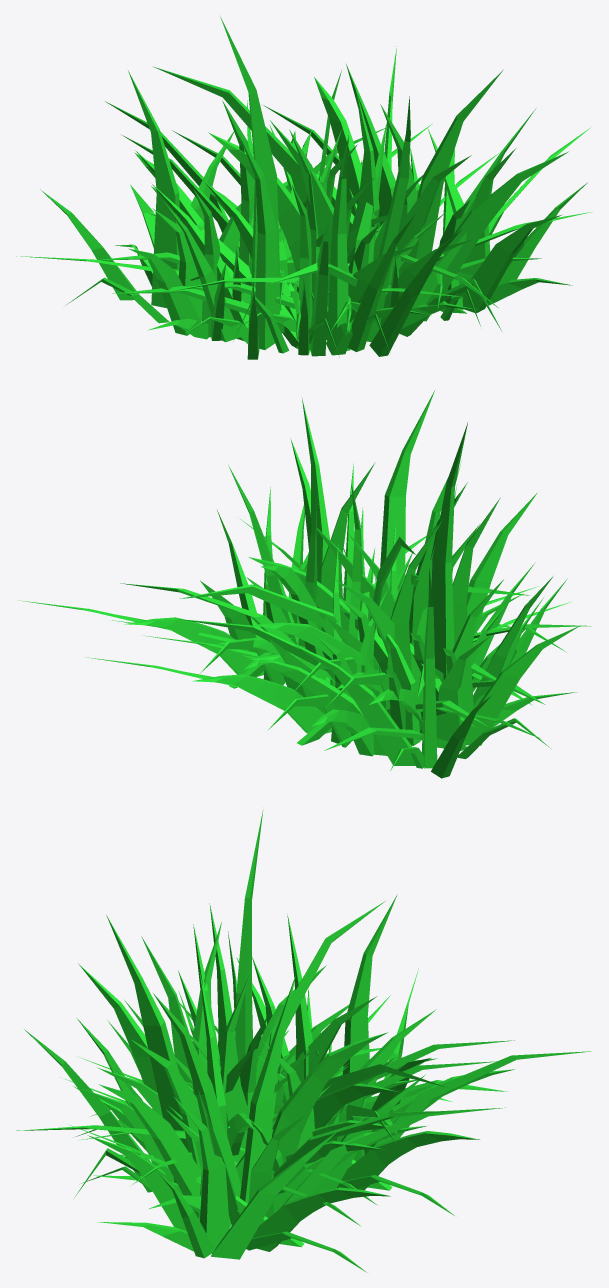
The model's file is kusa.fbx.
3 views of the same model, one above another, from view 1: azimuth 30°, elevation 25°; view 2: azimuth 150°, elevation 25°; view 3: azimuth 270°, elevation 25° (orthographic). The views are drawn at different scales.
Visible parts, largest first — view 1: Cube.018, Cube.001, Cube.004, Cube.002, Cube.005, Cube.000, Cube.003; view 2: Cube.004, Cube.001, Cube.018, Cube.003, Cube.005, Cube.002, Cube.000; view 3: Cube.018, Cube.005, Cube.001, Cube.003, Cube.004, Cube.002, Cube.000.
Part boxes in pixels (x1=…): Cube.018: x1=153, y1=46, x2=568, y2=356; Cube.001: x1=147, y1=16, x2=592, y2=356; Cube.004: x1=16, y1=70, x2=466, y2=340; Cube.002: x1=112, y1=133, x2=445, y2=359; Cube.005: x1=263, y1=104, x2=589, y2=326; Cube.000: x1=172, y1=129, x2=498, y2=355; Cube.003: x1=99, y1=100, x2=432, y2=306; Cube.004: x1=178, y1=565, x2=580, y2=778; Cube.001: x1=179, y1=422, x2=591, y2=715; Cube.018: x1=120, y1=389, x2=529, y2=683; Cube.003: x1=86, y1=519, x2=512, y2=756; Cube.005: x1=18, y1=462, x2=416, y2=691; Cube.002: x1=144, y1=497, x2=570, y2=729; Cube.000: x1=110, y1=482, x2=538, y2=708; Cube.018: x1=16, y1=901, x2=453, y2=1227; Cube.005: x1=70, y1=971, x2=505, y2=1272; Cube.001: x1=73, y1=809, x2=444, y2=1185; Cube.003: x1=186, y1=915, x2=591, y2=1215; Cube.004: x1=79, y1=894, x2=507, y2=1154; Cube.002: x1=77, y1=903, x2=514, y2=1204; Cube.000: x1=64, y1=924, x2=498, y2=1226.
Size of the model in its own units: 474 by 263 by 415.
